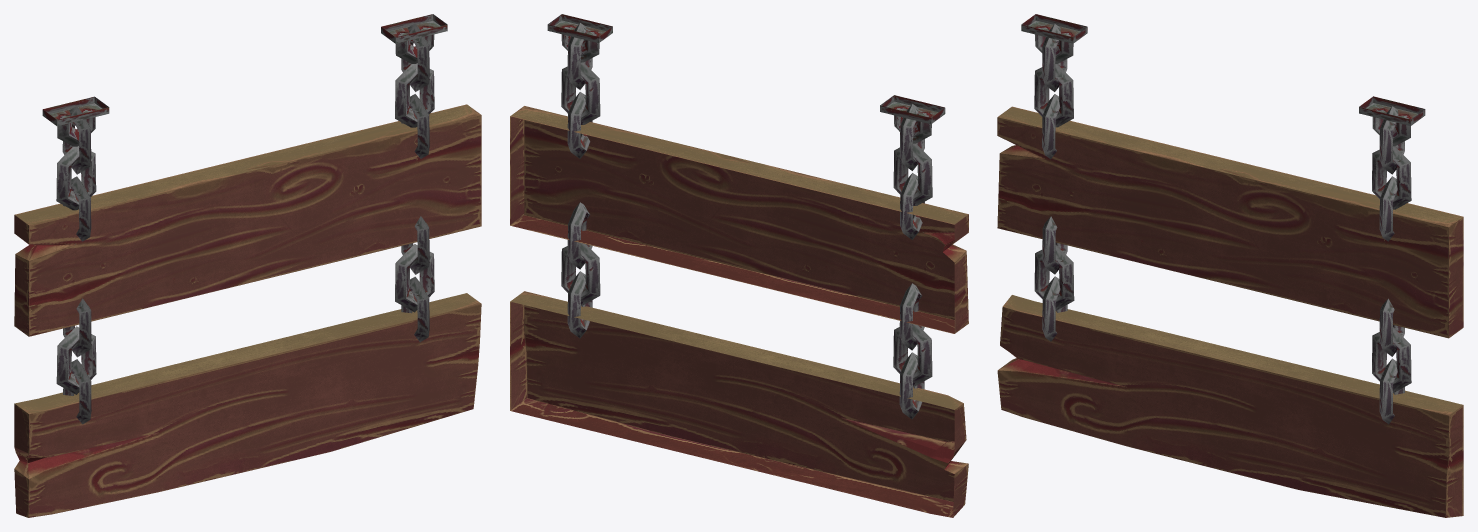
The model's file is Intro_Woods.FBX.
3 views of the same model, side by side, from view 1: azimuth 30°, elevation 25°; view 2: azimuth 150°, elevation 25°; view 3: azimuth 330°, elevation 25° (orthographic).
Visible parts, largest first — view 1: Object004; view 2: Object004; view 3: Object004.
Part boxes in pixels (box(x1,y1,x2,y2)): Object004: box(14, 14, 481, 517); Object004: box(510, 14, 968, 517); Object004: box(997, 14, 1463, 517).
Size of the model in its own units: 16.2 by 13.8 by 1.48.
1 material, 1 textured.
